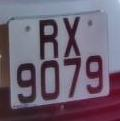0: (37, 57, 64, 105)
7: (61, 53, 86, 104)
9: (13, 55, 40, 110), (83, 51, 108, 97)
R: (35, 15, 64, 63)
X: (61, 13, 86, 60)
